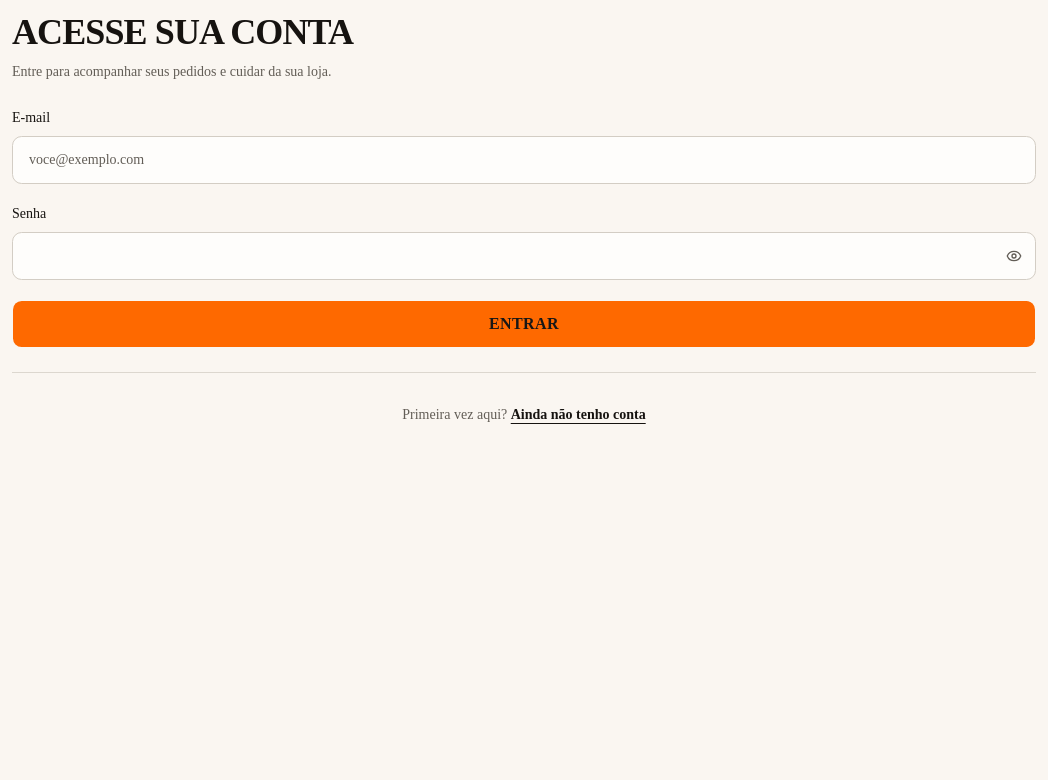
Test case: hides password recovery when e-mail sending is not configured
Type "buyer@example.test" into the field labelled "E-mail" at (524, 160), box [12,136,1036,184]
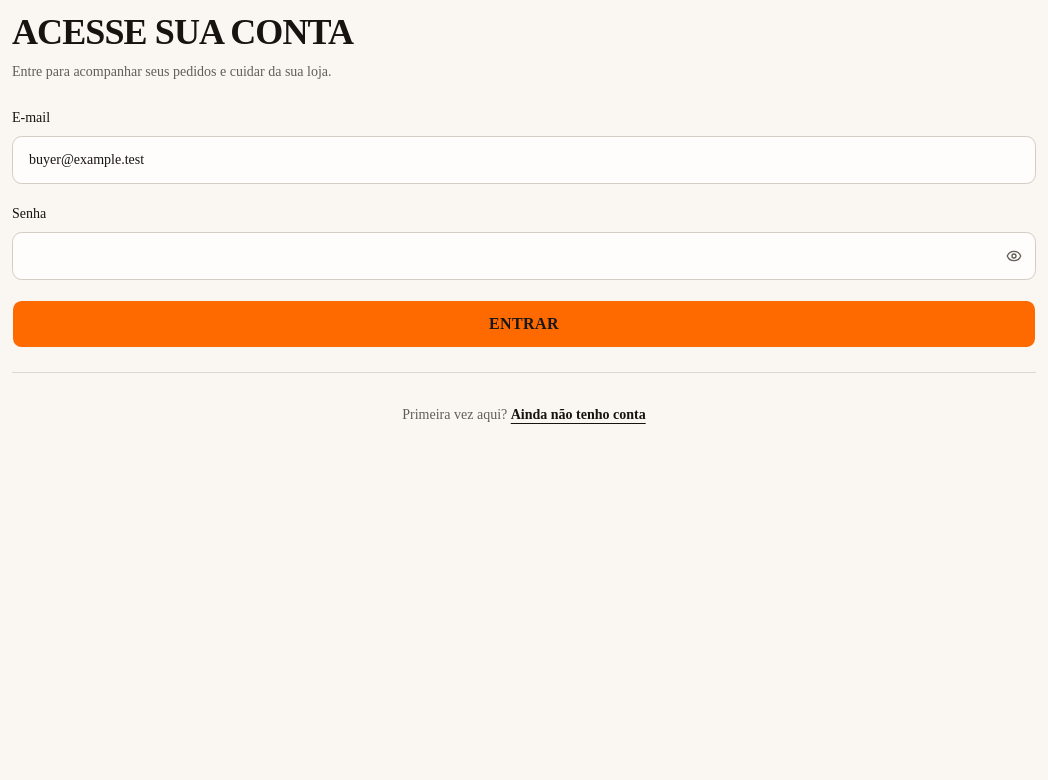
Type "wrong-password" into the password field labelled "Senha" at (524, 256), box [12,232,1036,280]
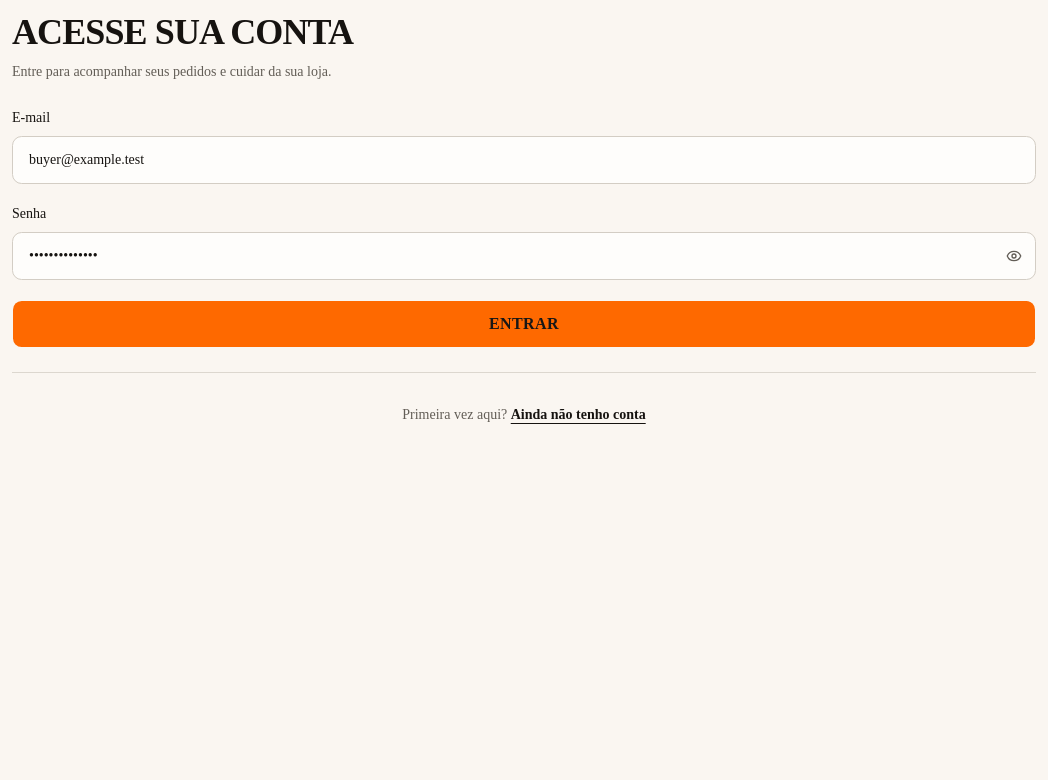
Submit the form named "Entrar", box [12,12,1036,437]
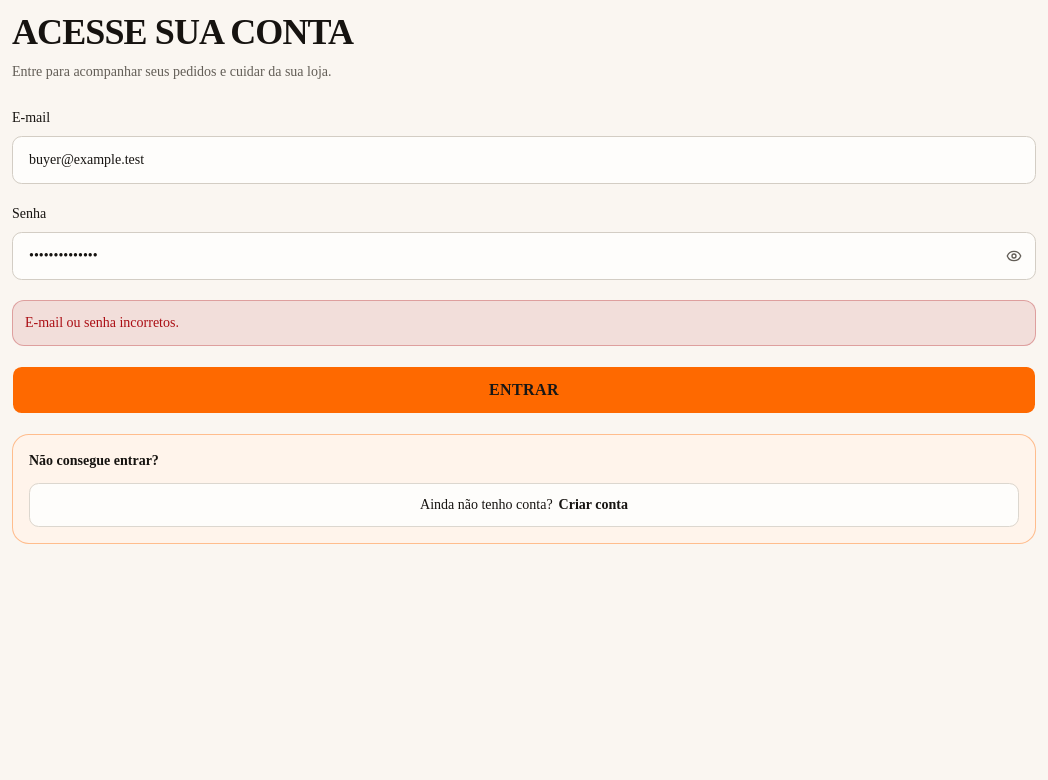
Now the message reads "E-mail ou senha incorretos.", box [25,315,179,330]
Now the button "Ainda não tenho conta? Criar conta" is shown, box [29,483,1019,527]
